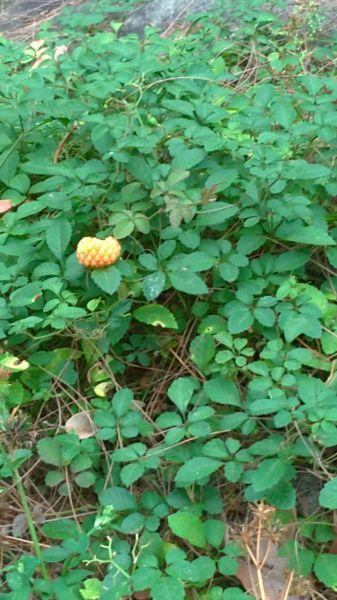eggs: (66, 232, 130, 274)
